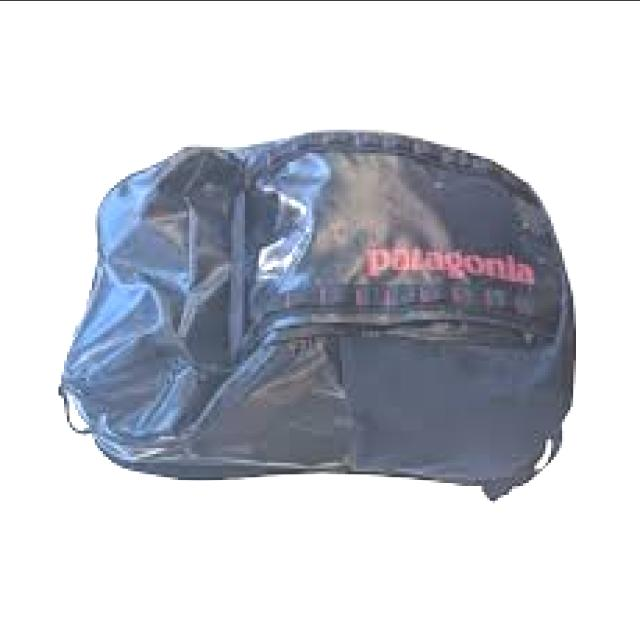backpack: (57, 130, 577, 504)
